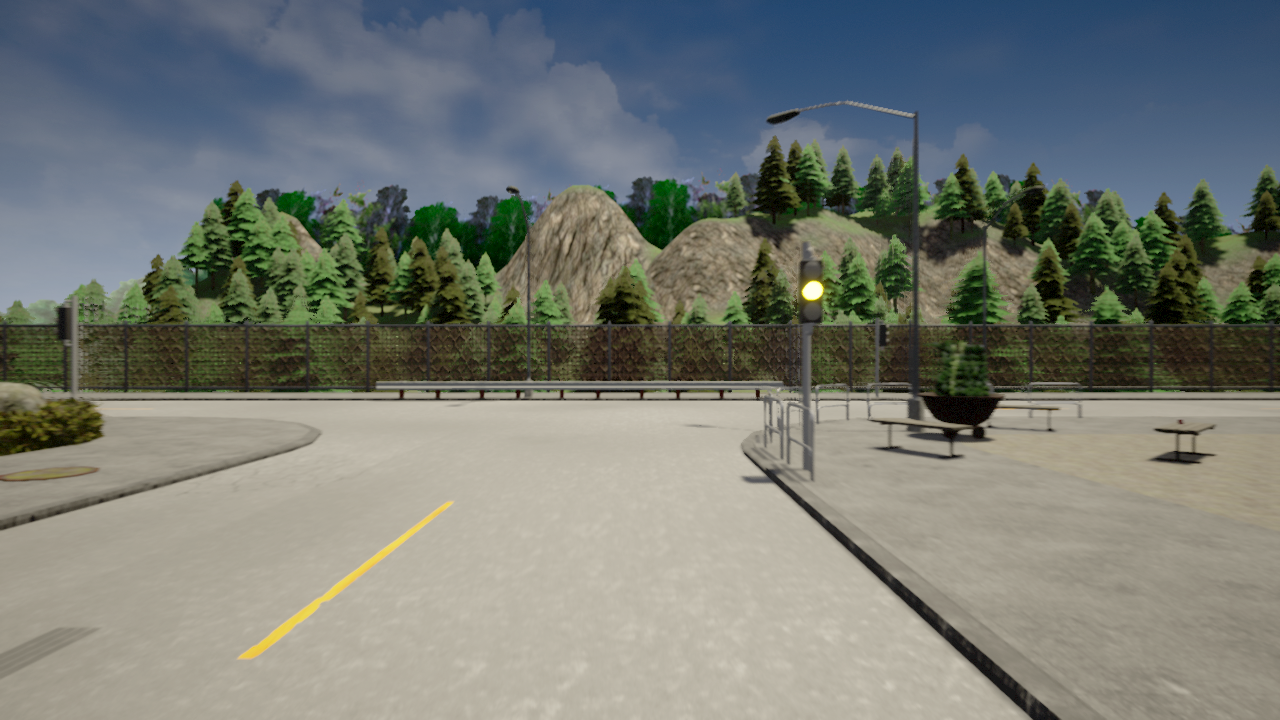yellow: (797, 260, 824, 325)
